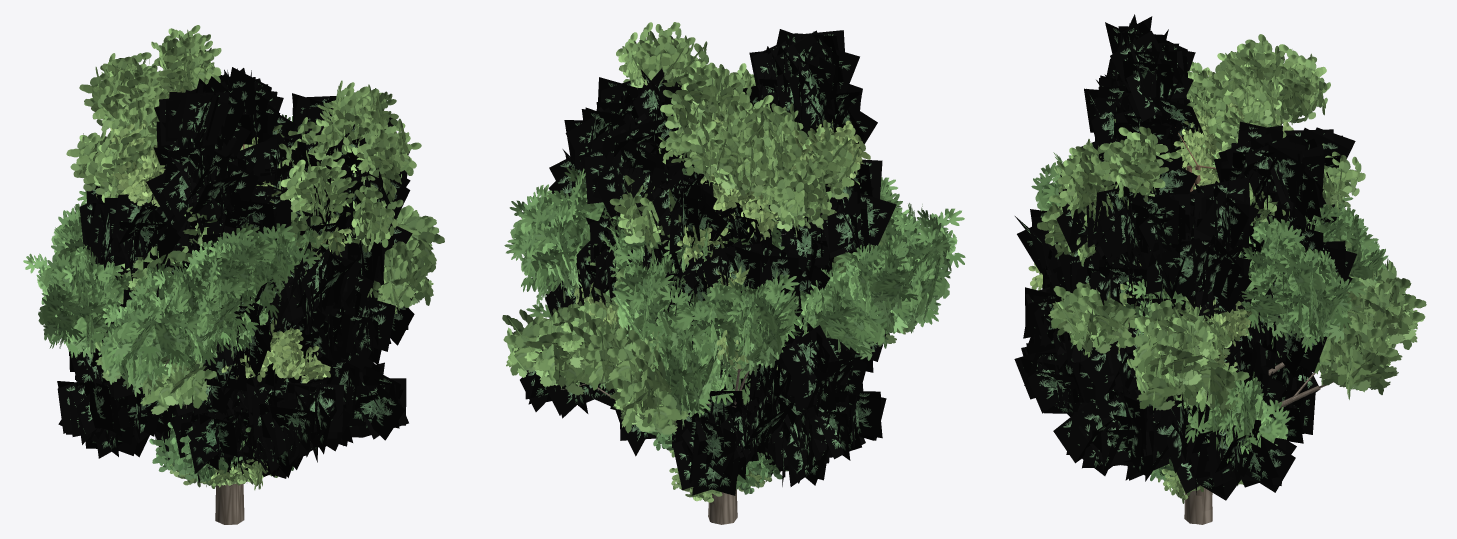
The model's file is EftelingTrees_v3.fbx.
3 views of the same model, side by side, from view 1: azimuth 30°, elevation 25°; view 2: azimuth 150°, elevation 25°; view 3: azimuth 270°, elevation 25° (orthographic). The views are drawn at different scales.
Parts seen in each view (by area): view 1: den0__MAT_naald_den, den1__MAT_naald_den, kastanje0__MAT_blad_kastanje, beuk1__MAT_blad_beuk, eik0__MAT_blad_eik, beuk0__MAT_blad_beuk, berk1__MAT_blad_berk, taxus0__MAT_naald_taxus, taxus1__MAT_naald_taxus, eik1__MAT_blad_eik, kastanje1__MAT_blad_kastanje, struik1__MAT_blad_struik (+4 smaller); view 2: den1__MAT_naald_den, den0__MAT_naald_den, kastanje1__MAT_blad_kastanje, kastanje0__MAT_blad_kastanje, beuk1__MAT_blad_beuk, eik0__MAT_blad_eik, beuk0__MAT_blad_beuk, berk1__MAT_blad_berk, berk0__MAT_blad_berk, kastanje1__MAT_schors_eik, rododendron0__MAT_blad_rodo, rododendron1__MAT_blad_rodo; view 3: den0__MAT_naald_den, den1__MAT_naald_den, eik0__MAT_blad_eik, kastanje1__MAT_blad_kastanje, beuk1__MAT_blad_beuk, beuk0__MAT_blad_beuk, berk1__MAT_blad_berk, eik1__MAT_blad_eik, kastanje0__MAT_blad_kastanje, berk0__MAT_blad_berk, eik0__MAT_schors_eik, kastanje0__MAT_schors_eik (+1 smaller).
Part boxes in pixels (<box>): den0__MAT_naald_den: <box>68,67,410,469</box>; den1__MAT_naald_den: <box>57,107,415,458</box>; kastanje0__MAT_blad_kastanje: <box>23,150,328,396</box>; beuk1__MAT_blad_beuk: <box>79,25,421,252</box>; eik0__MAT_blad_eik: <box>95,205,444,414</box>; beuk0__MAT_blad_beuk: <box>66,63,282,221</box>; berk1__MAT_blad_berk: <box>110,86,330,383</box>; taxus0__MAT_naald_taxus: <box>155,389,257,482</box>; taxus1__MAT_naald_taxus: <box>173,389,294,479</box>; eik1__MAT_blad_eik: <box>114,212,344,306</box>; kastanje1__MAT_blad_kastanje: <box>51,114,292,278</box>; struik1__MAT_blad_struik: <box>169,459,271,490</box>; den1__MAT_naald_den: <box>520,68,896,486</box>; den0__MAT_naald_den: <box>545,29,862,495</box>; kastanje1__MAT_blad_kastanje: <box>504,166,801,429</box>; kastanje0__MAT_blad_kastanje: <box>610,165,965,360</box>; beuk1__MAT_blad_beuk: <box>616,22,807,187</box>; eik0__MAT_blad_eik: <box>502,195,914,434</box>; beuk0__MAT_blad_beuk: <box>609,95,860,253</box>; berk1__MAT_blad_berk: <box>574,117,870,328</box>; berk0__MAT_blad_berk: <box>677,194,782,370</box>; kastanje1__MAT_schors_eik: <box>707,367,748,524</box>; rododendron0__MAT_blad_rodo: <box>640,430,771,494</box>; rododendron1__MAT_blad_rodo: <box>736,452,788,489</box>; den0__MAT_naald_den: <box>1014,14,1352,475</box>; den1__MAT_naald_den: <box>1042,80,1356,500</box>; eik0__MAT_blad_eik: <box>1048,234,1426,410</box>; kastanje1__MAT_blad_kastanje: <box>1122,193,1389,463</box>; beuk1__MAT_blad_beuk: <box>1037,34,1330,359</box>; beuk0__MAT_blad_beuk: <box>1083,59,1365,357</box>; berk1__MAT_blad_berk: <box>1028,70,1360,302</box>; eik1__MAT_blad_eik: <box>1059,184,1249,415</box>; kastanje0__MAT_blad_kastanje: <box>1031,123,1344,238</box>; berk0__MAT_blad_berk: <box>1053,206,1251,409</box>; eik0__MAT_schors_eik: <box>1193,362,1333,524</box>; kastanje0__MAT_schors_eik: <box>1184,490,1212,524</box>.
Bounding box in the file's own units: 14.33 × 15.99 × 13.15.
12 materials, 12 textured.
